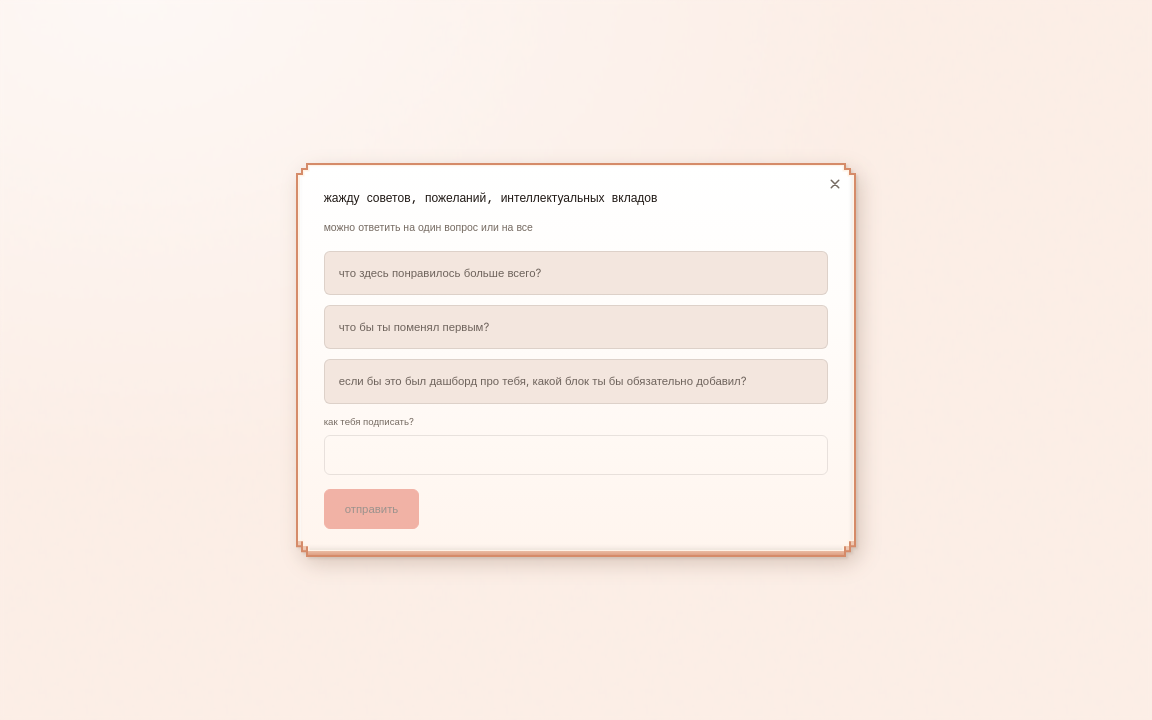
FeedbackModal — a note to the author (§5.19) › the questions start folded into cards and open into a field on click
Click the button "что здесь понравилось больше всего?" at (440, 273), box [324,251,828,295]
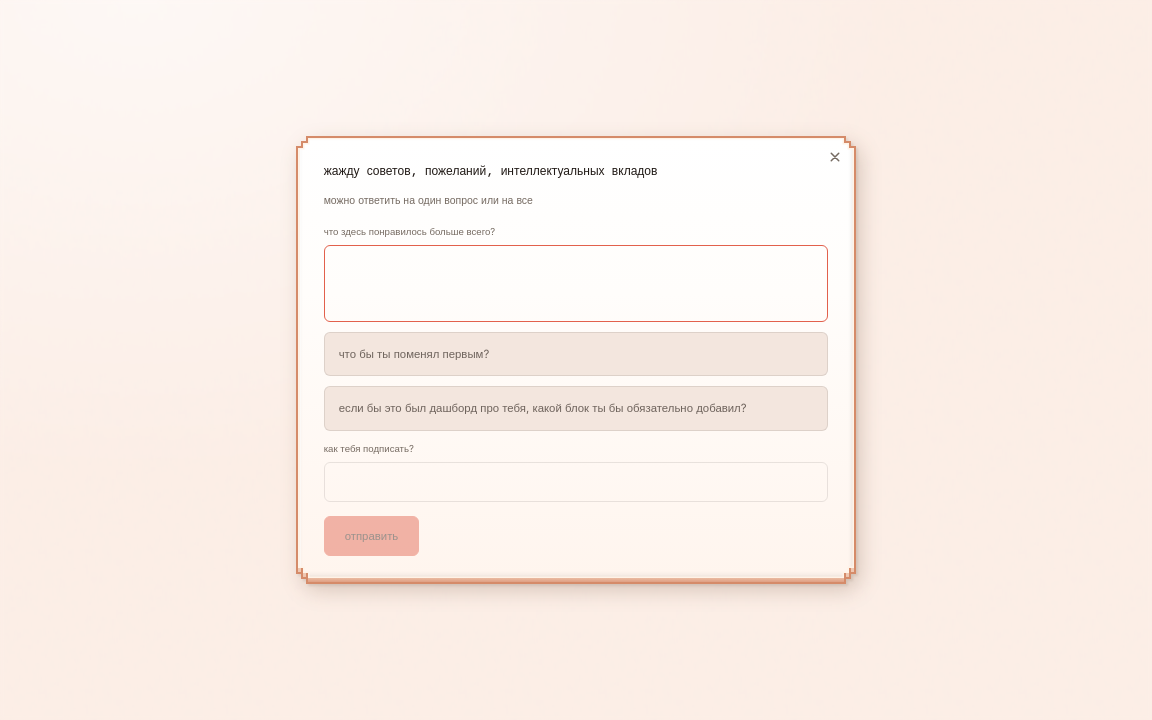
Now the text box labelled "что здесь понравилось больше всего?" is shown, box [324,246,828,322]
